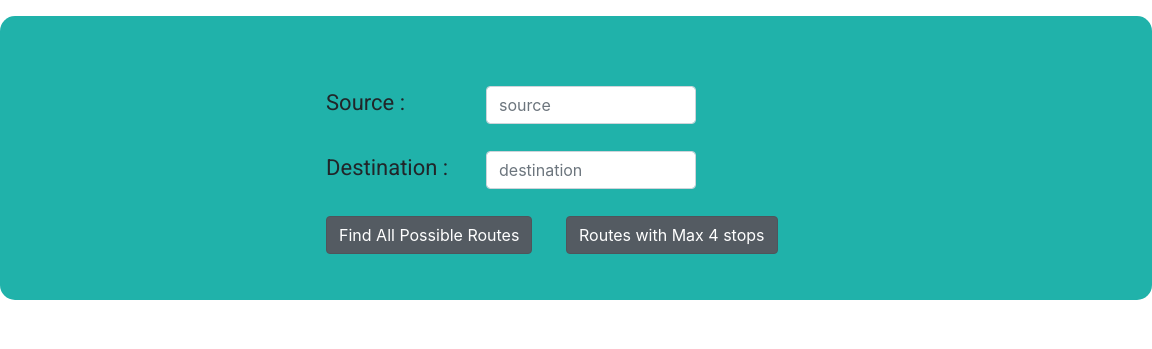
Scenario: calcCost click event on being empty
This screenshot has width=1152, height=349.
Click the button with id "findNodesBtn" at (429,235), box [326,216,532,254]
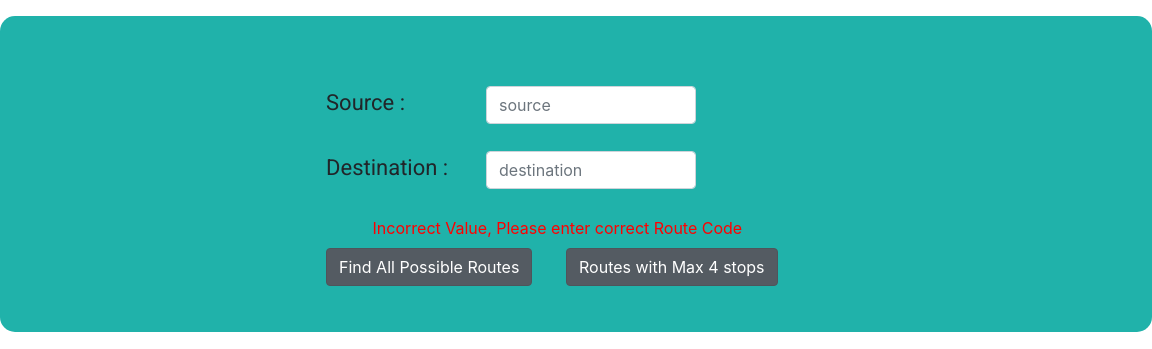
Result: the label with class "error-pr" reads "Incorrect Value, Please enter correct Route Code" at [372,218,742,238]
